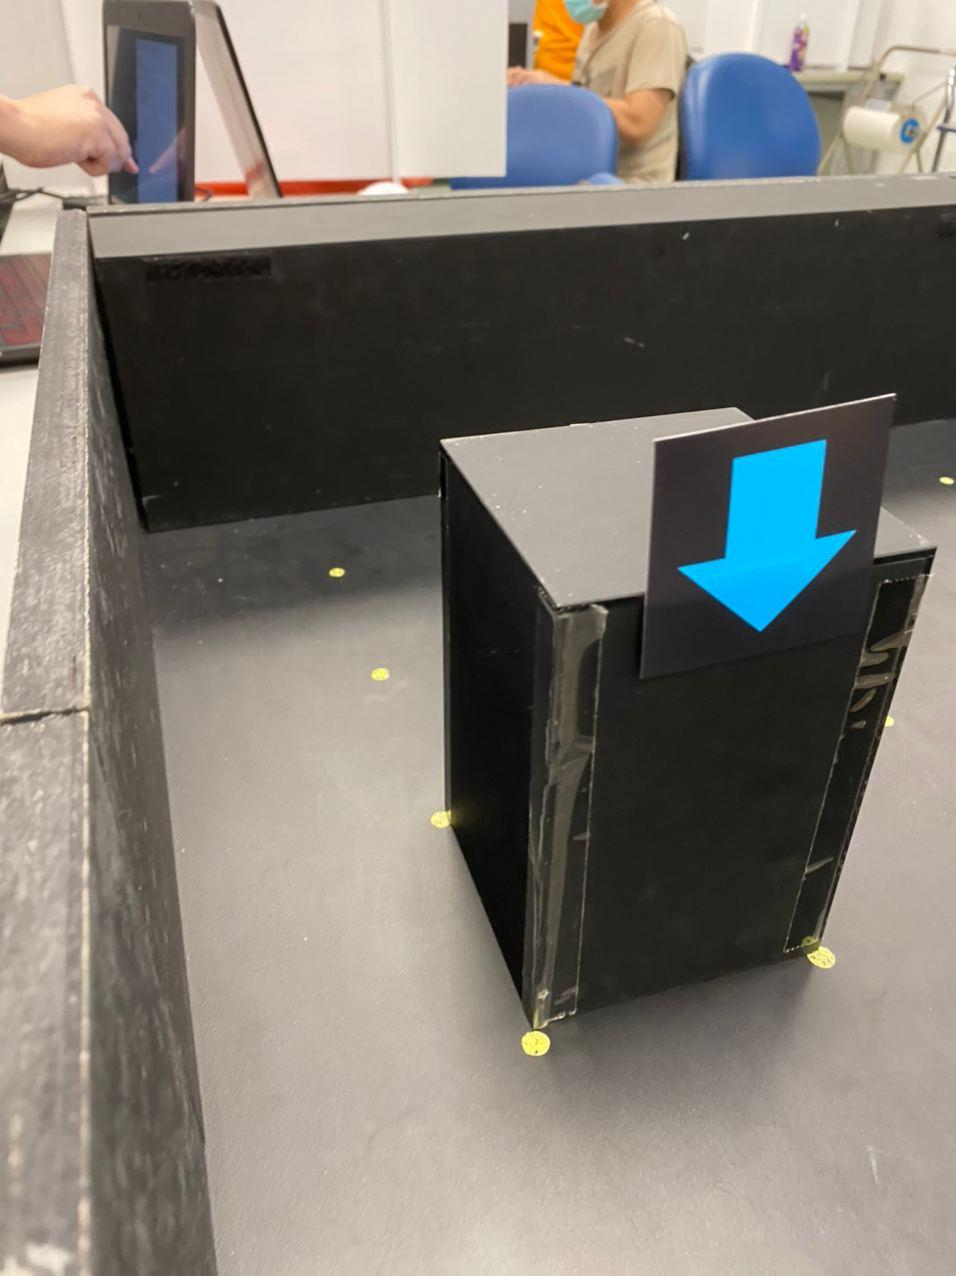down: (678, 440, 858, 633)
